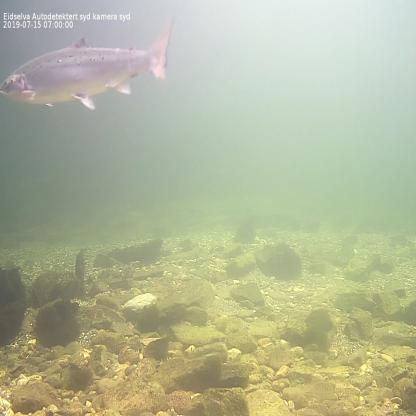salmon: (0, 13, 176, 112)
